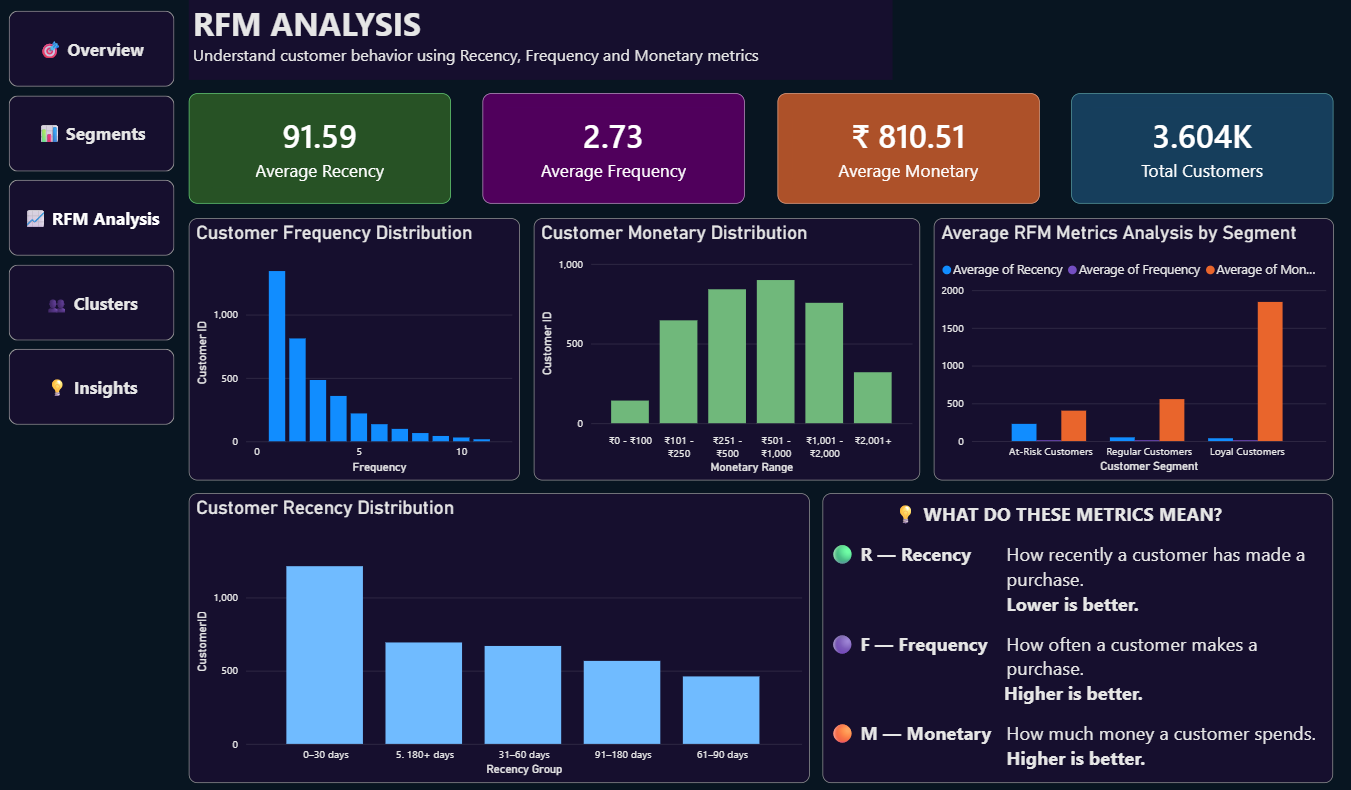

The page's visual inventory and layout, read from the dashboard file:
{"tool":"powerbi","page":{"name":"📈 RFM  Analysis","canvas":[1580,920],"ordinal":2},"visuals":[{"type":"pageNavigator","box":[16,16,192,480],"z":0},{"type":"cardVisual","fields":{"Data":["Avg(Customer_Segments.Recency)"]},"box":[224,112,304,128],"z":1000},{"type":"cardVisual","fields":{"Data":["Avg(Customer_Segments.Frequency)"]},"box":[565.3,112,304,128],"z":2000},{"type":"cardVisual","fields":{"Data":["Avg(Customer_Segments.Monetary)"]},"box":[906.7,112,304,128],"z":3000},{"type":"cardVisual","fields":{"Data":["Count(Customer_Segments.CustomerID)"]},"box":[1248,112,304,128],"z":4000},{"type":"clusteredColumnChart","title":"Customer Recency Distribution","fields":{"Y":["Count(Customer_Segments.CustomerID)"],"Category":["Customer_Segments.Recency Group"]},"box":[224,576,720,336],"z":5000},{"type":"clusteredColumnChart","title":"Customer Frequency Distribution","fields":{"Category":["Customer_Segments.Frequency"],"Y":["CountNonNull(Customer_Segments.CustomerID)"]},"box":[224,256,384,304],"z":6000},{"type":"clusteredColumnChart","title":"Customer Monetary Distribution","fields":{"Category":["Customer_Segments.Monetary Range"],"Y":["CountNonNull(Customer_Segments.CustomerID)"]},"box":[624,256,448,304],"z":7000},{"type":"clusteredColumnChart","title":"Average RFM Metrics Analysis by Segment","fields":{"Category":["Customer_Segments.CustomerSegment"],"Y":["Avg(Customer_Segments.Recency)","Avg(Customer_Segments.Frequency)","Avg(Customer_Segments.Monetary)"]},"box":[1088,256,464,304],"z":8000},{"type":"textbox","box":[224,0,816,96],"z":9000},{"type":"textbox","box":[960,576,592,336],"z":10000}]}

Visuals, with their boxes in screenshot pixels (x1, y1, x2, y2), scaled from the page's 1580x920 canvas onto the 1351x790 screenshot:
pageNavigator: (14,14,178,426)
cardVisual - Avg(Customer_Segments.Recency): (192,96,451,206)
cardVisual - Avg(Customer_Segments.Frequency): (483,96,743,206)
cardVisual - Avg(Customer_Segments.Monetary): (775,96,1035,206)
cardVisual - Count(Customer_Segments.CustomerID): (1067,96,1327,206)
"Customer Recency Distribution" clusteredColumnChart: (192,495,807,783)
"Customer Frequency Distribution" clusteredColumnChart: (192,220,520,481)
"Customer Monetary Distribution" clusteredColumnChart: (534,220,917,481)
"Average RFM Metrics Analysis by Segment" clusteredColumnChart: (930,220,1327,481)
textbox: (192,0,889,82)
textbox: (821,495,1327,783)
